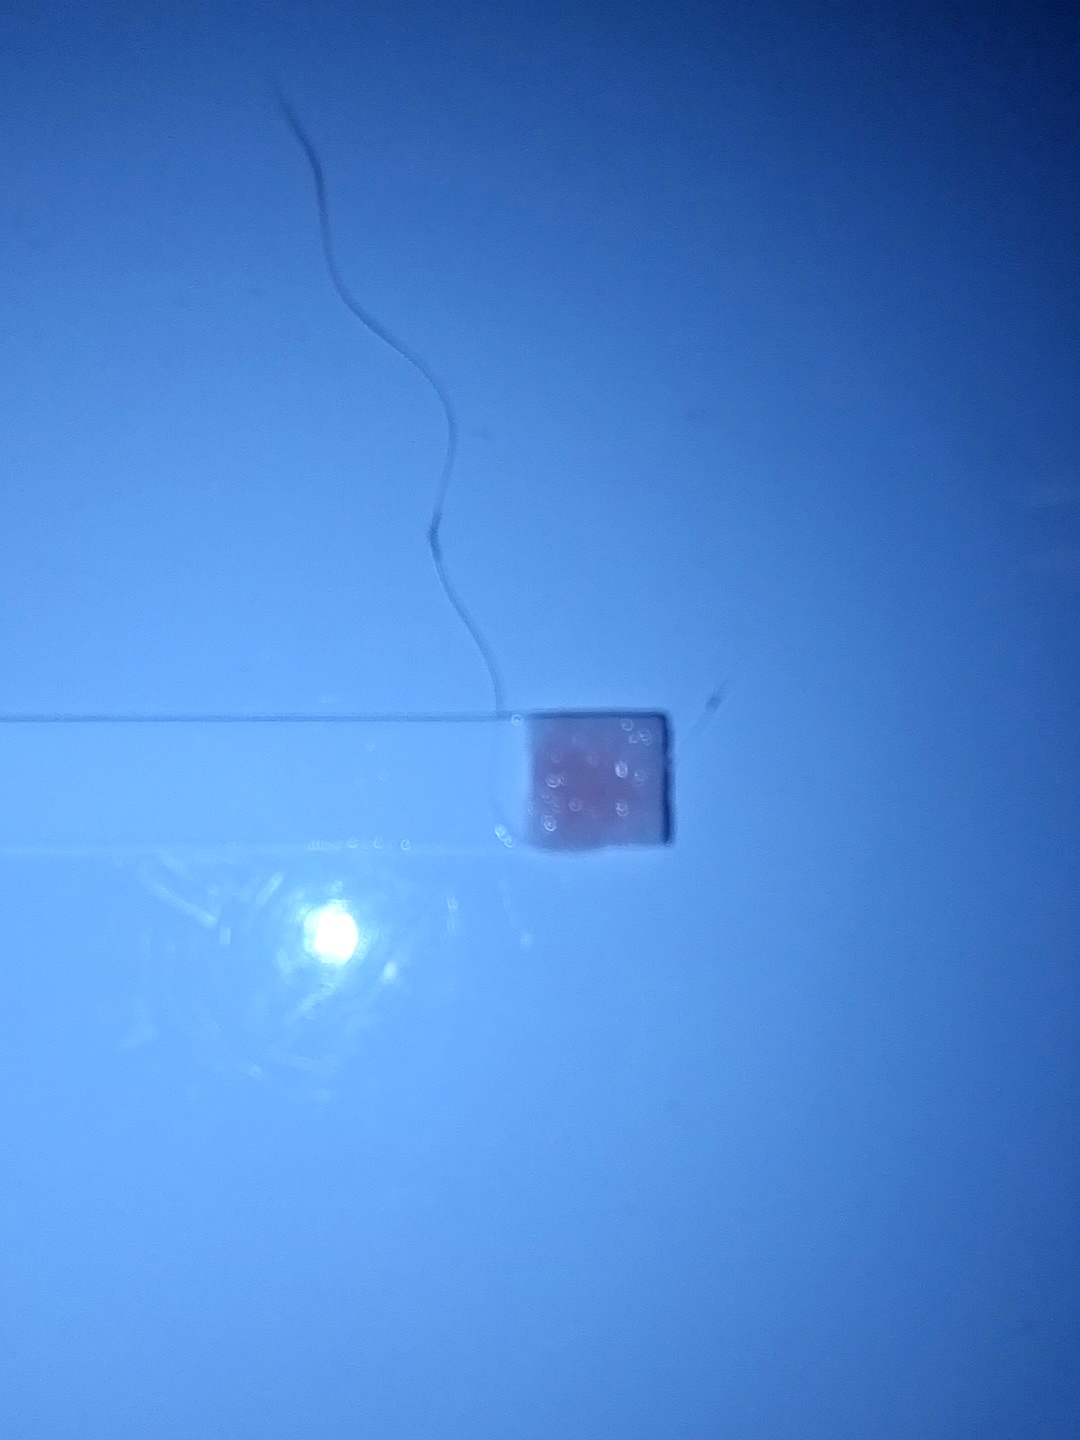keto-tip: (516, 706, 680, 861)
